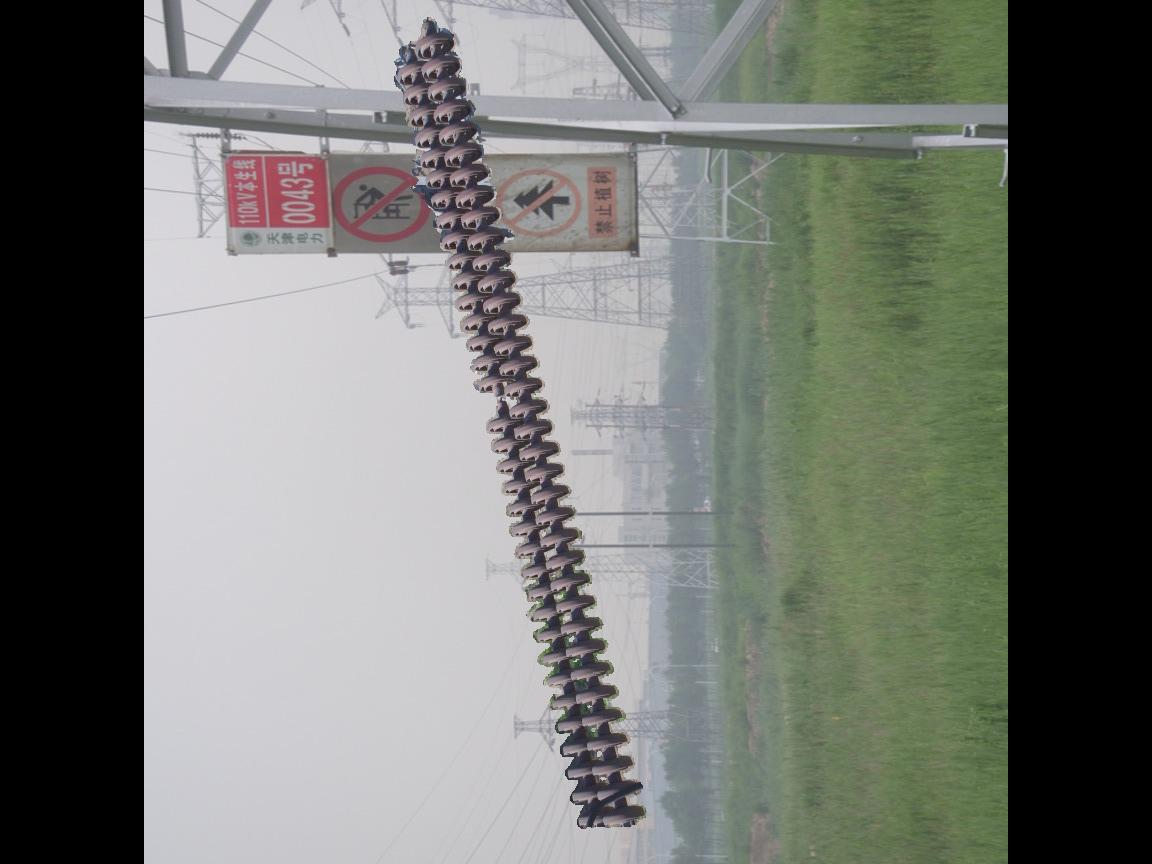insulator: (386, 24, 651, 836)
insulator_stringdrop: (470, 371, 519, 437)
